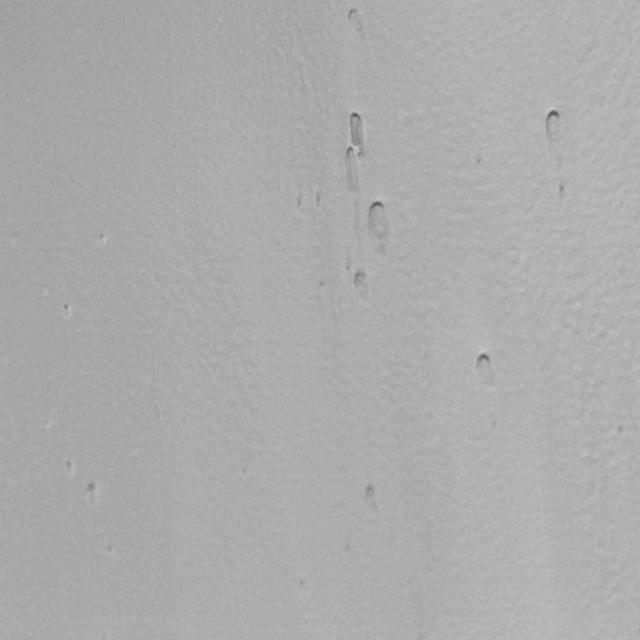pin holes: (343, 108, 374, 158), (365, 202, 393, 248), (341, 144, 360, 195), (542, 109, 568, 145), (472, 351, 498, 384), (351, 267, 372, 295), (360, 482, 381, 508), (84, 480, 102, 508), (345, 3, 365, 25), (612, 422, 630, 442), (296, 573, 312, 594), (62, 459, 76, 477), (96, 230, 109, 248), (556, 184, 568, 202), (60, 302, 73, 318), (104, 541, 116, 558)
